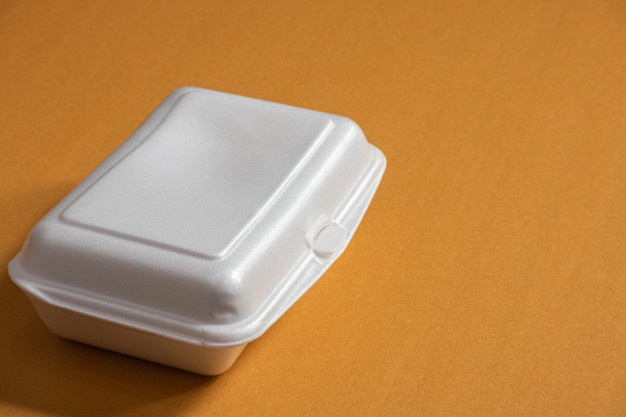Foam Box: (4, 82, 392, 378)
